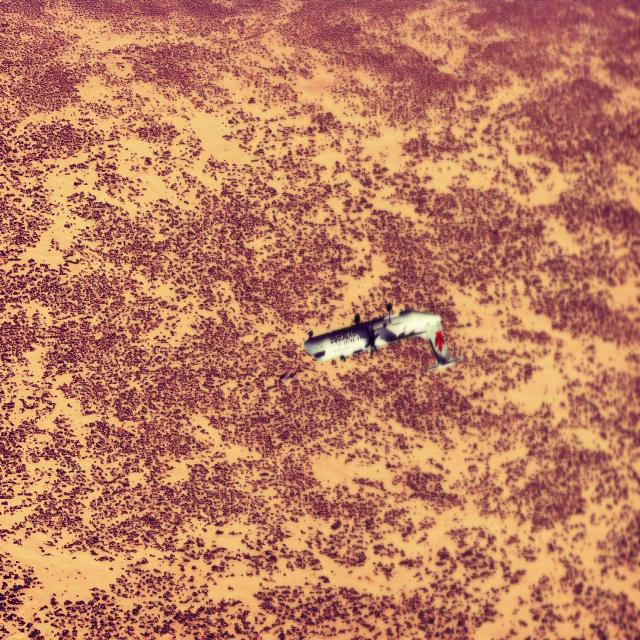airplane: (304, 302, 464, 372)
